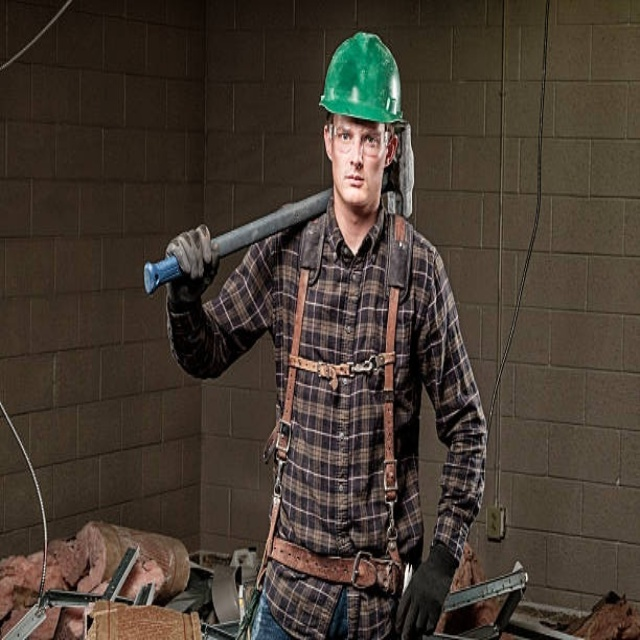Gafas: (328, 124, 391, 158)
Guantes: (395, 544, 459, 640), (163, 224, 218, 304)
Sin_mascara: (340, 168, 372, 202)
